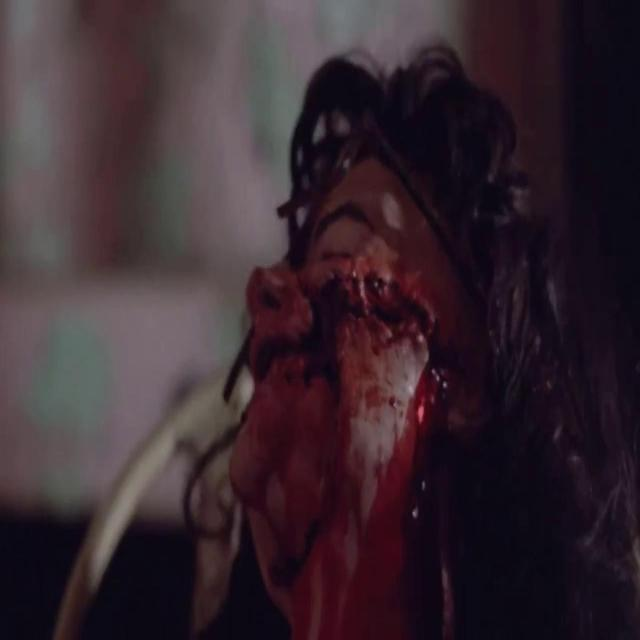flood: (300, 270, 442, 640)
